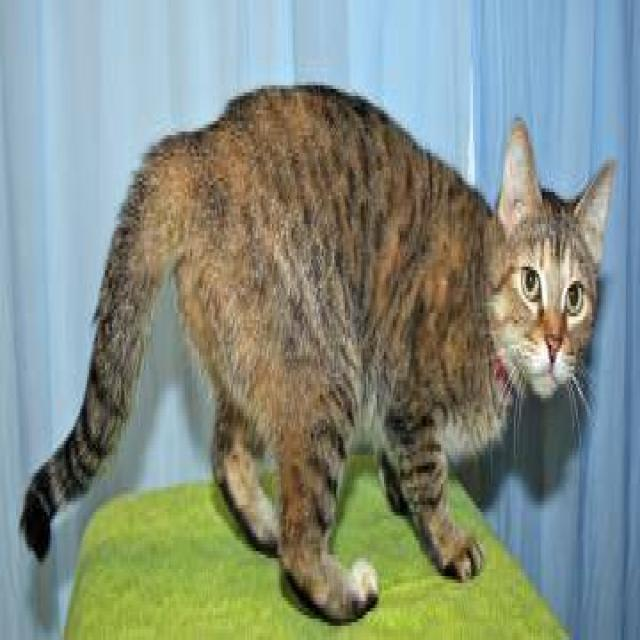cat: (18, 78, 617, 622)
